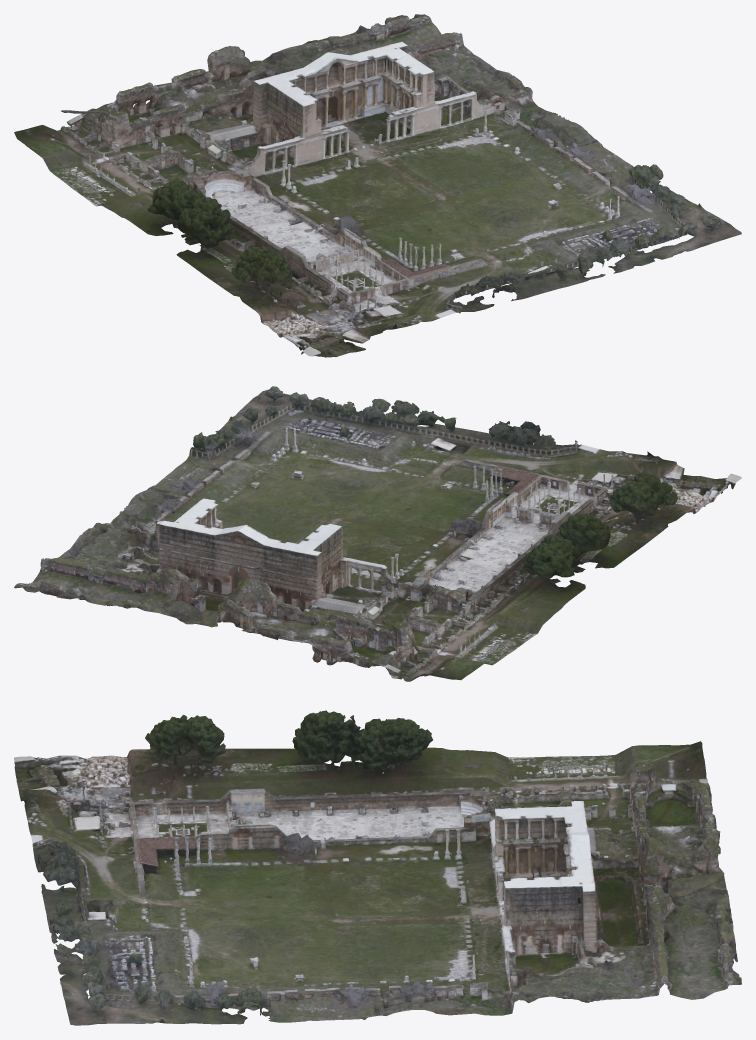
Rendered from sardes.glb.
The picture shows the model from 3 angles, top to bottom: view 1: azimuth 30°, elevation 25°; view 2: azimuth 150°, elevation 25°; view 3: azimuth 270°, elevation 25°; orthographic projection. The views are drawn at different scales.
Parts seen in each view (by area): view 1: Object_2; view 2: Object_2; view 3: Object_2.
Boxes of the visible parts, bbox=[...] form: Object_2: bbox=[14, 14, 741, 357]; Object_2: bbox=[14, 386, 741, 681]; Object_2: bbox=[14, 710, 741, 1025].
Bounding box in the file's own units: 73.27 × 11.63 × 85.17.
Materials: 1 (1 with a texture image).
